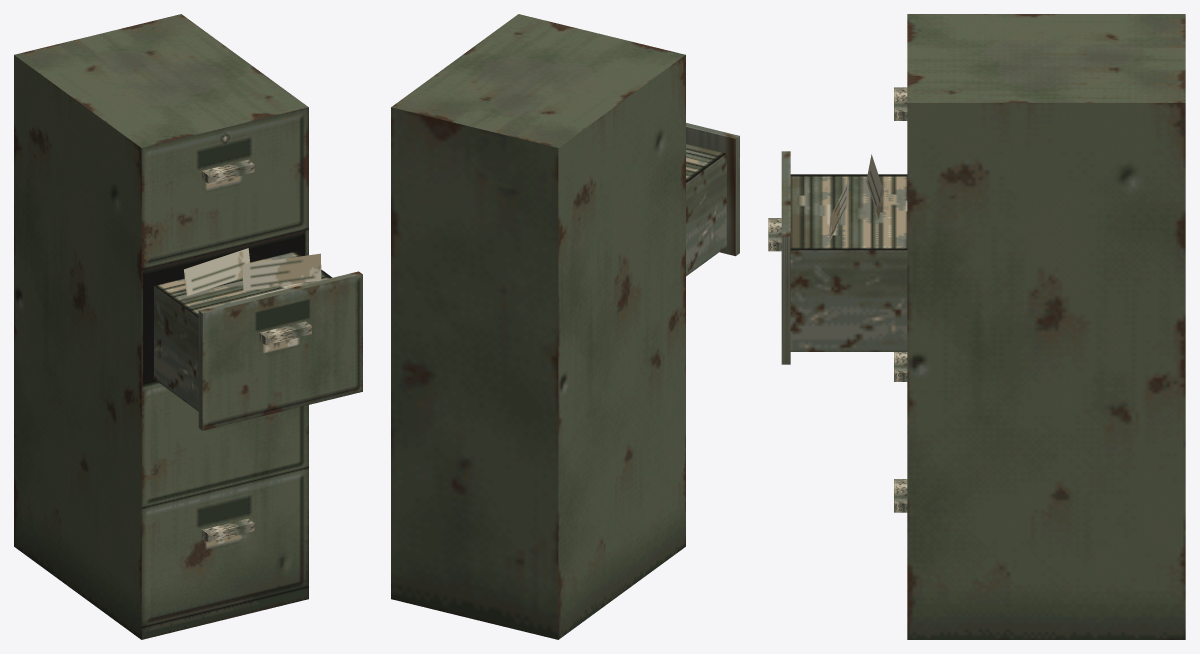
File: filing_cabinet.obj
3 views of the same model, side by side, from view 1: azimuth 30°, elevation 25°; view 2: azimuth 150°, elevation 25°; view 3: azimuth 270°, elevation 25° (orthographic). The views are drawn at different scales.
Visible parts, largest first — view 1: filing_cabinet; view 2: filing_cabinet; view 3: filing_cabinet.
Boxes of the visible parts, <box> form: filing_cabinet: <box>14,14,362,639</box>; filing_cabinet: <box>391,14,739,639</box>; filing_cabinet: <box>768,14,1185,639</box>.
Bounding box in the file's own units: 0.47 × 1.32 × 0.93.
1 material, 1 textured.
